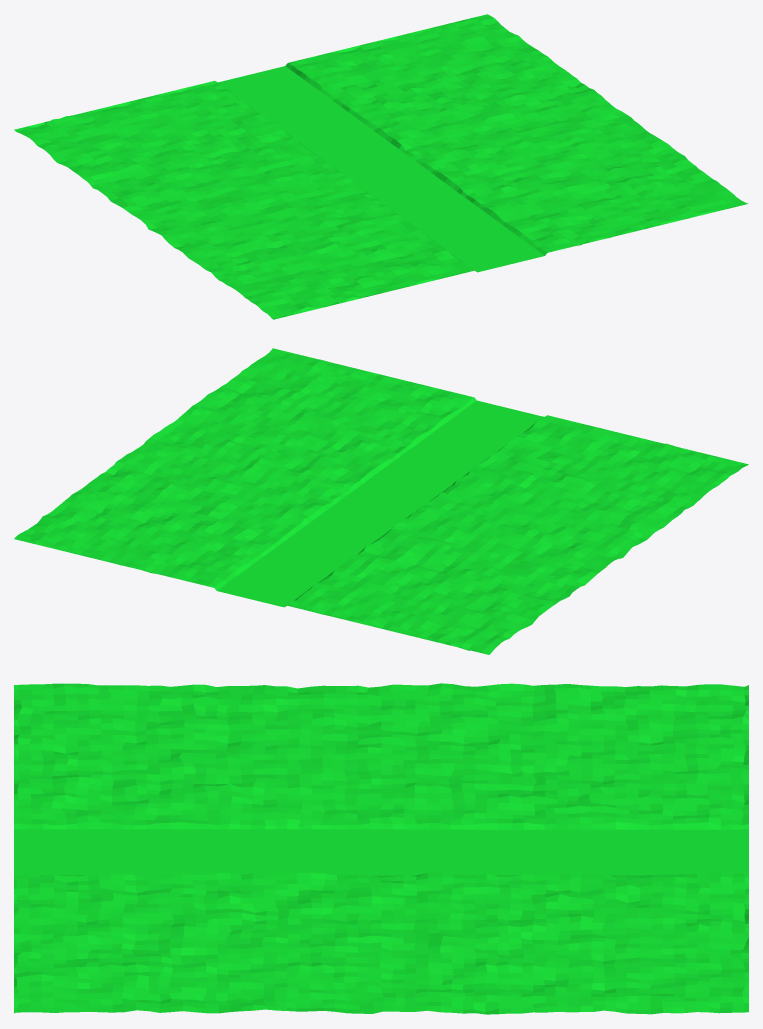
Rendered from ground.fbx.
3 renders of one model, top to bottom at view 1: azimuth 30°, elevation 25°; view 2: azimuth 150°, elevation 25°; view 3: azimuth 270°, elevation 25°, orthographic. The views are drawn at different scales.
Visible parts, largest first — view 1: Plane; view 2: Plane; view 3: Plane.
Part boxes in pixels (x1,y1,x2,y2): Plane: (14,14,748,319); Plane: (14,348,748,654); Plane: (14,683,748,1014).
Size of the model in its own units: 8223 by 97.21 by 7759.
